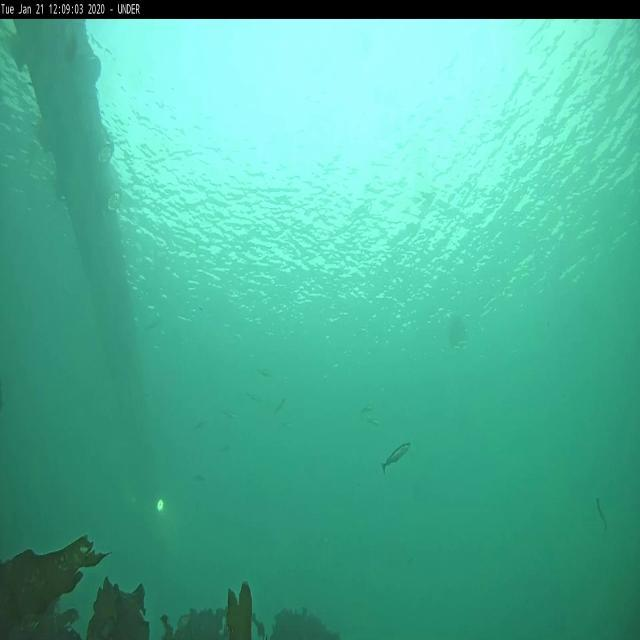fish: (380, 438, 410, 479), (594, 496, 606, 532), (359, 402, 374, 418), (274, 396, 286, 416), (246, 392, 263, 404), (147, 321, 163, 333), (258, 368, 274, 379), (368, 416, 380, 426), (224, 410, 236, 420), (193, 474, 206, 482), (195, 421, 204, 432), (222, 444, 230, 452)
